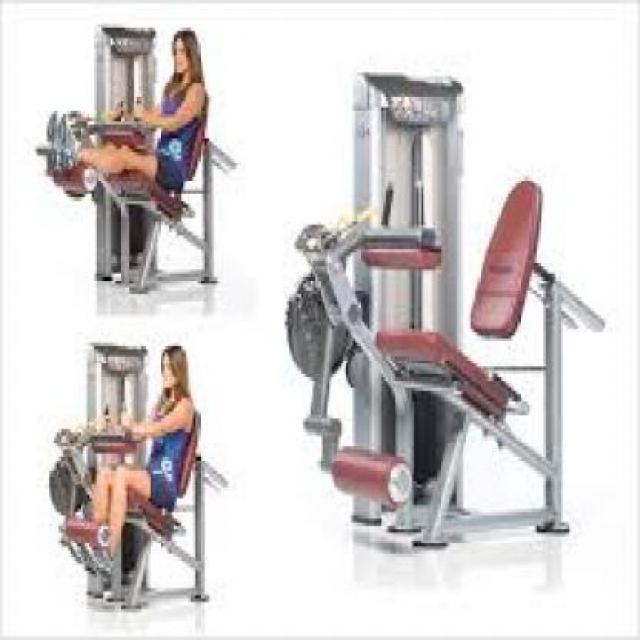leg extension: (276, 39, 612, 578), (28, 15, 268, 318), (28, 323, 250, 617)
